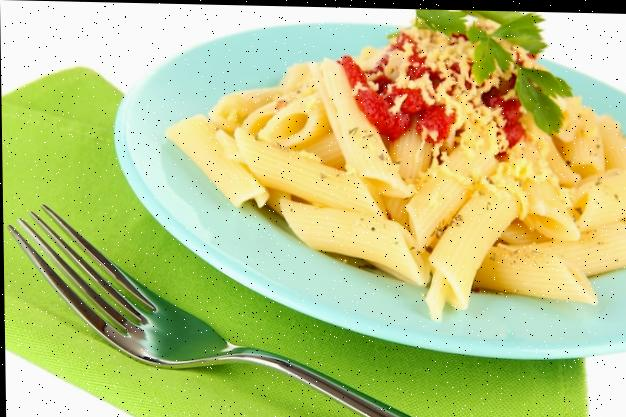pasta: (208, 27, 625, 319)
